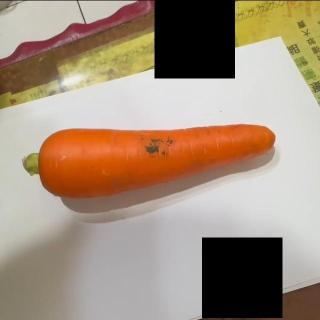carrot: (22, 121, 274, 199)
